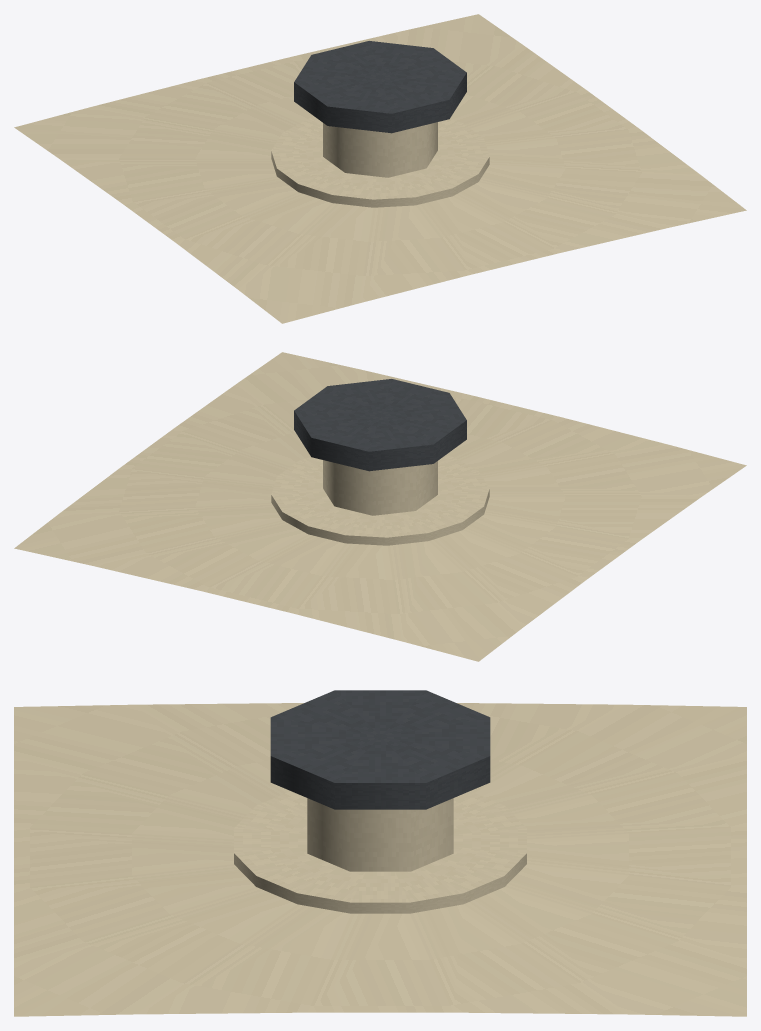
The model's file is tank_large_roof_2_2.obj.
3 renders of one model, top to bottom at view 1: azimuth 30°, elevation 25°; view 2: azimuth 150°, elevation 25°; view 3: azimuth 270°, elevation 25°, orthographic. The views are drawn at different scales.
Visible parts, largest first — view 1: tank_large_roof_2_2; view 2: tank_large_roof_2_2; view 3: tank_large_roof_2_2.
Boxes of the visible parts, left/top/right/bottom form: tank_large_roof_2_2: left=14, top=14, right=746, bottom=323; tank_large_roof_2_2: left=14, top=352, right=746, bottom=661; tank_large_roof_2_2: left=14, top=690, right=746, bottom=1016.
Size of the model in its own units: 3 by 0.57 by 3.
